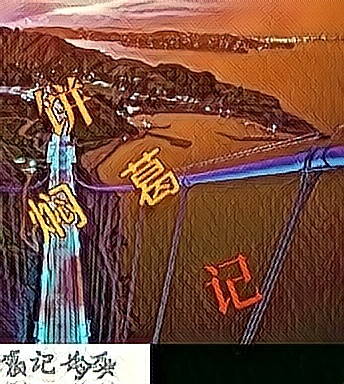B1FD: (32, 76, 97, 142)
B8F0: (116, 143, 181, 209)
BCC7: (200, 249, 265, 315)
ECCB: (25, 182, 90, 248)
